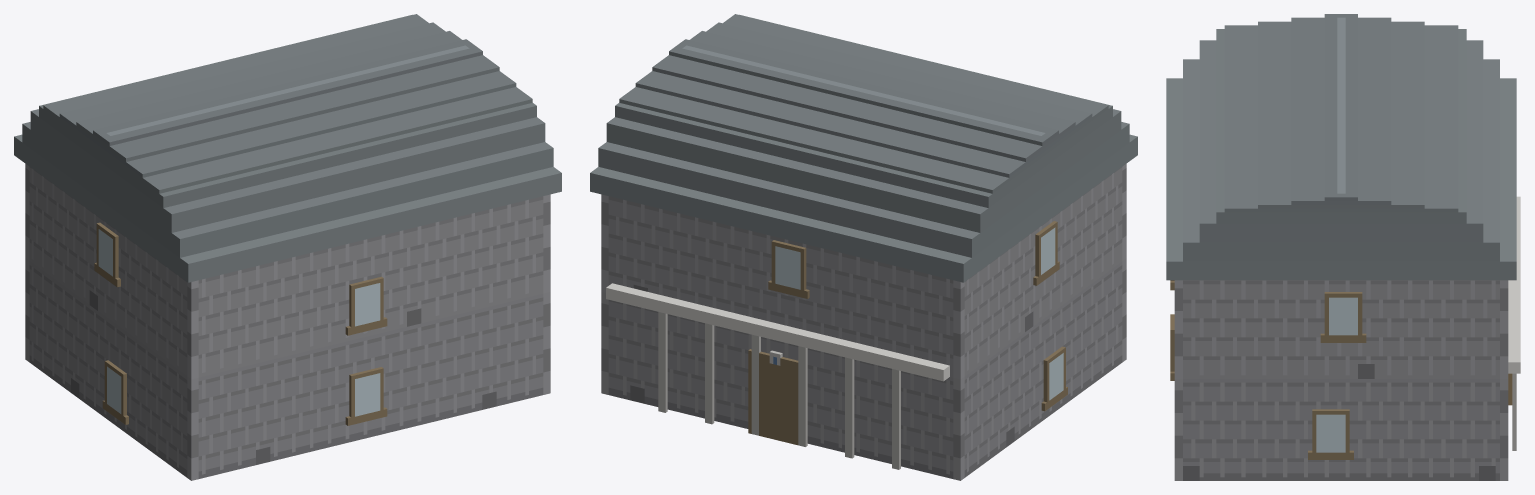
Rendered from casa_de_cambio_02.glb.
3 views of the same model, side by side, from view 1: azimuth 30°, elevation 25°; view 2: azimuth 150°, elevation 25°; view 3: azimuth 270°, elevation 25° (orthographic).
Parts seen in each view (by area): view 1: casa_de_cambio_02; view 2: casa_de_cambio_02; view 3: casa_de_cambio_02.
Boxes of the visible parts, left/top/right/bottom form: casa_de_cambio_02: left=14, top=14, right=561, bottom=480; casa_de_cambio_02: left=590, top=14, right=1137, bottom=480; casa_de_cambio_02: left=1166, top=14, right=1520, bottom=480.
Bounding box in the file's own units: 10.4 × 7.6 × 8.5.
